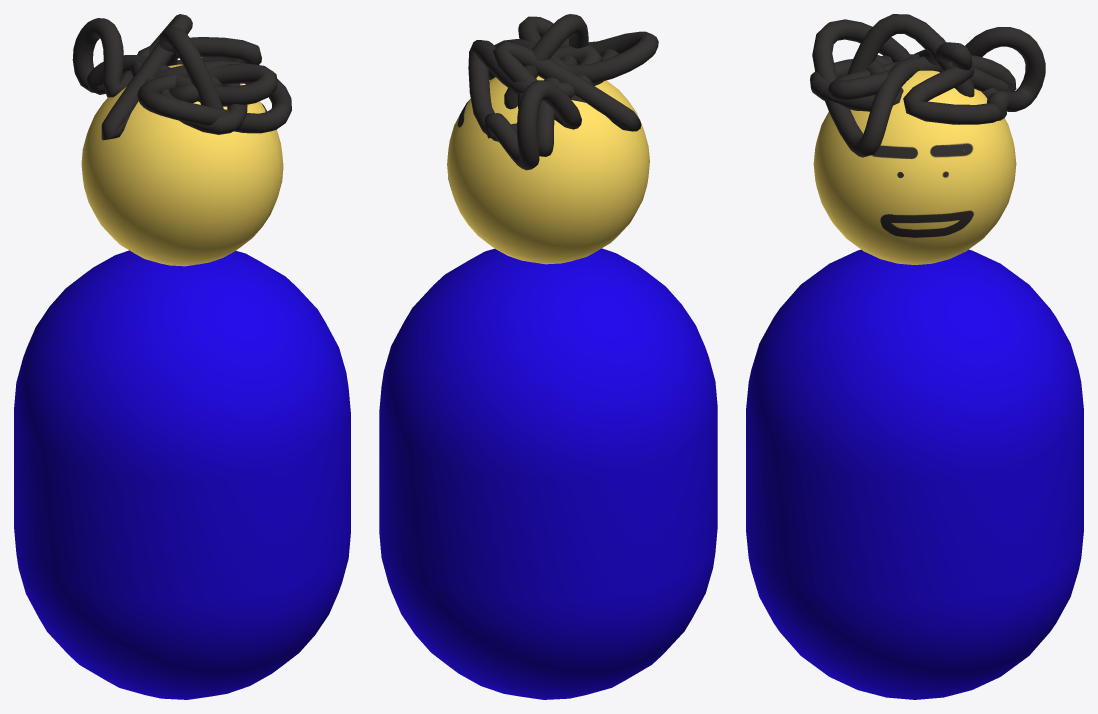
Rendered from cam_people.glb.
3 renders of one model, left to right at view 1: azimuth 30°, elevation 25°; view 2: azimuth 150°, elevation 25°; view 3: azimuth 270°, elevation 25°, orthographic.
Visible parts, largest first — view 1: Roundcube, Roundcube.006, BézierCurve; view 2: Roundcube, Roundcube.006, BézierCurve; view 3: Roundcube, Roundcube.006, BézierCurve.
Boxes of the visible parts, x1,y1,x2,y2 form: Roundcube: (14, 250, 350, 699); Roundcube.006: (81, 64, 283, 266); BézierCurve: (72, 14, 291, 140); Roundcube: (379, 248, 717, 699); Roundcube.006: (447, 76, 649, 264); BézierCurve: (468, 14, 658, 170); Roundcube: (746, 249, 1083, 699); Roundcube.006: (813, 70, 1016, 264); BézierCurve: (810, 14, 1045, 157).
Bounding box in the file's own units: 1 × 2.17 × 1.
3 materials, 1 textured.
